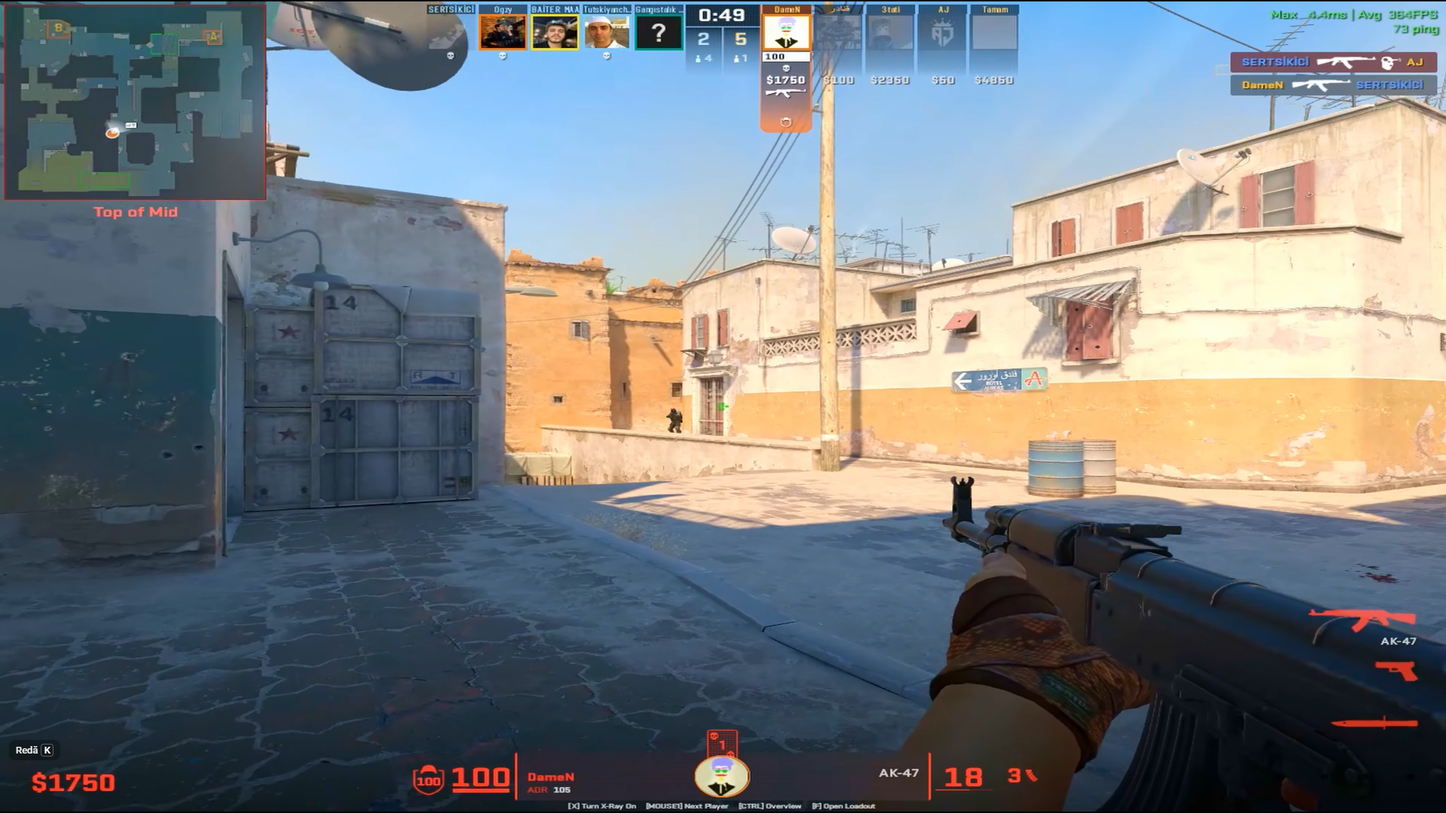CT: (666, 409, 683, 433)
